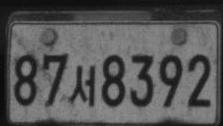2: (187, 53, 211, 107)
3: (129, 54, 154, 107)
7: (42, 54, 67, 105)
8: (13, 54, 38, 106), (101, 53, 125, 107)
9: (158, 53, 183, 107)
서: (69, 65, 96, 107)
